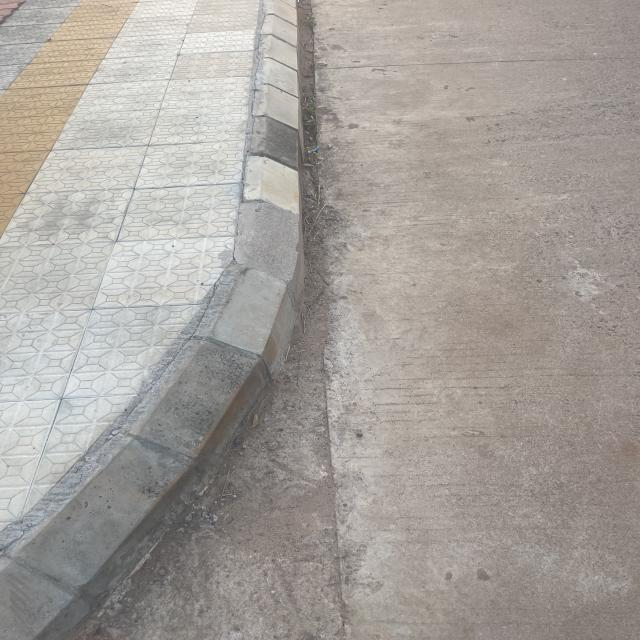D43: (284, 326, 418, 635)
